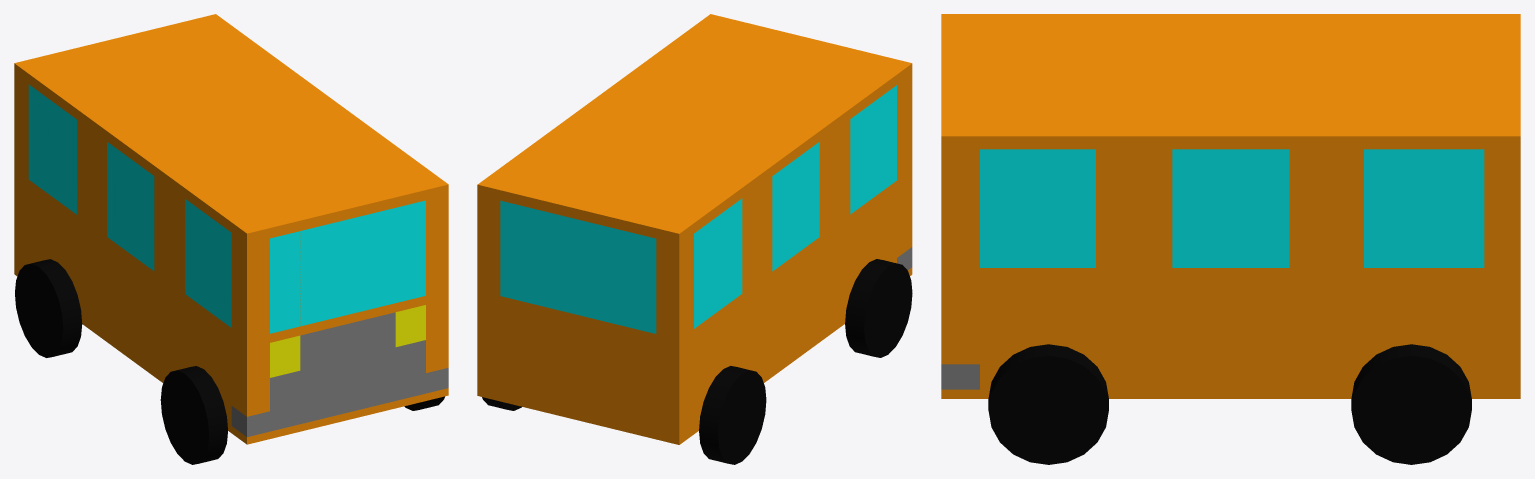
The model's file is Bus.fbx.
The picture shows the model from 3 angles, left to right: view 1: azimuth 30°, elevation 25°; view 2: azimuth 150°, elevation 25°; view 3: azimuth 270°, elevation 25°; orthographic projection. The views are drawn at different scales.
Parts seen in each view (by area): view 1: Body, Wheel4, Wheel1; view 2: Body, Wheel1, Wheel4; view 3: Body, Wheel3, Wheel2.
Boxes of the visible parts, box(x1,y1,x2,y2) form: Body: box(14, 14, 448, 444); Wheel4: box(160, 366, 227, 464); Wheel1: box(15, 259, 82, 357); Body: box(477, 14, 912, 444); Wheel1: box(699, 366, 766, 464); Wheel4: box(845, 259, 912, 357); Body: box(941, 14, 1520, 398); Wheel3: box(988, 344, 1108, 464); Wheel2: box(1351, 344, 1471, 464).
Size of the model in its own units: 4.75 by 4.83 by 8.
